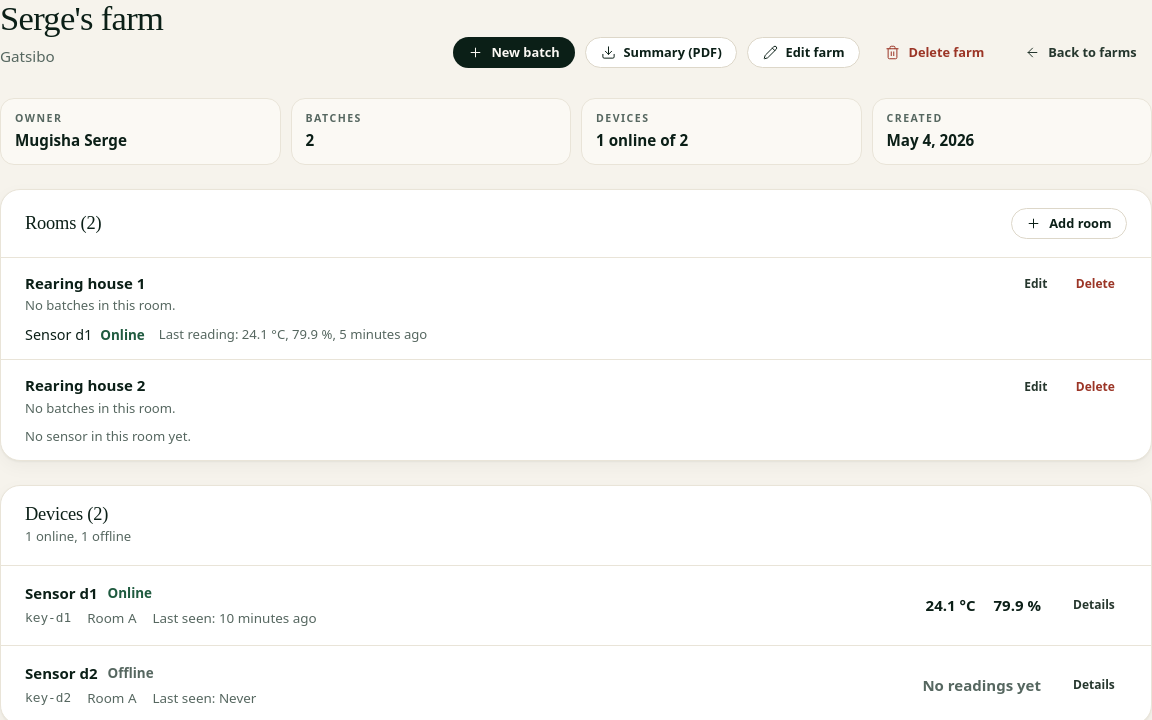
it: Farm details page › the summary PDF › tells the person kindly when the summary cannot be made
Expected: the heading "Serge's farm" is shown, [0,0,163,37]
Click the button "Summary (PDF)": (661, 53) [585,37,737,68]
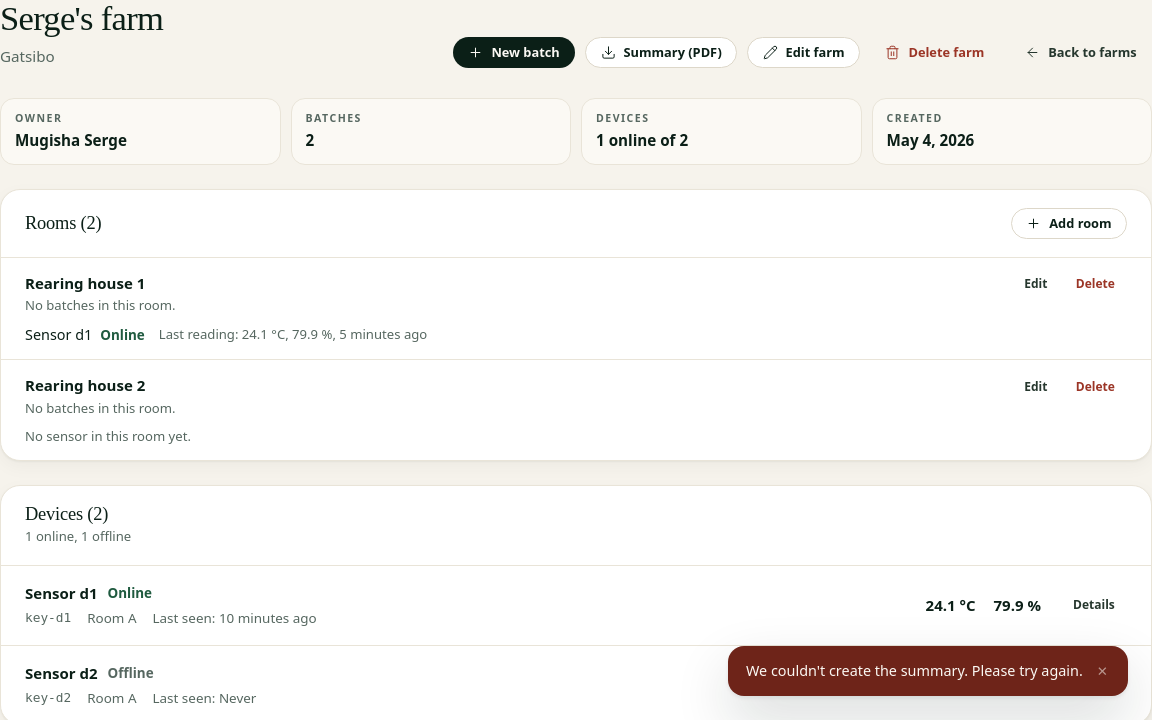
Expected: the text "We couldn't create the summary. Please try again." is shown, [746,660,1083,682]
